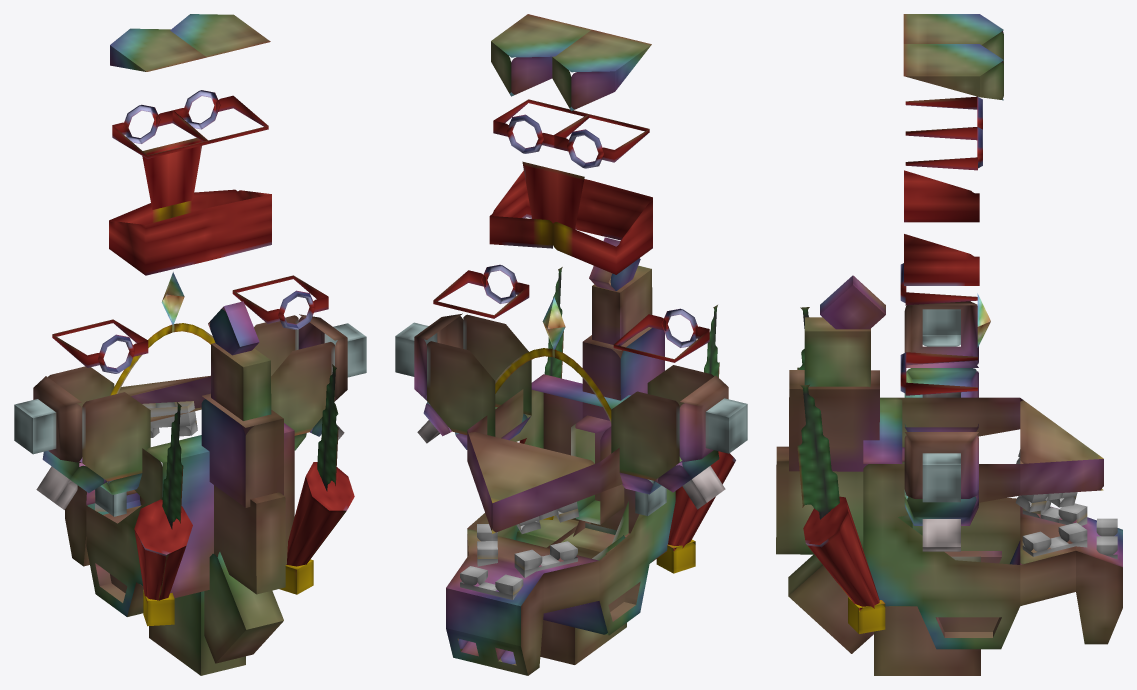
File: bismuth.obj
3 renders of one model, left to right at view 1: azimuth 30°, elevation 25°; view 2: azimuth 150°, elevation 25°; view 3: azimuth 270°, elevation 25°, orthographic. The views are drawn at different scales.
Parts seen in each view (by area): view 1: Helmet, RightArm, Chest, LeftArm, RightBoot, LeftBoot, LeftLeg, RightLeg; view 2: Helmet, RightArm, LeftArm, Chest, RightBoot, LeftBoot, LeftLeg, RightLeg; view 3: Helmet, LeftArm, RightArm, Chest, LeftBoot, RightBoot, RightLeg, LeftLeg.
Boxes of the visible parts, bbox=[...] form: Helmet: bbox=[65, 301, 354, 675]; RightArm: bbox=[14, 319, 150, 516]; Chest: bbox=[109, 138, 271, 395]; LeftArm: bbox=[232, 275, 366, 450]; RightBoot: bbox=[110, 28, 206, 71]; LeftBoot: bbox=[170, 14, 270, 57]; LeftLeg: bbox=[172, 90, 268, 143]; RightLeg: bbox=[112, 104, 208, 158]; Helmet: bbox=[446, 237, 735, 675]; RightArm: bbox=[611, 308, 747, 516]; LeftArm: bbox=[395, 264, 531, 449]; Chest: bbox=[489, 161, 652, 422]; RightBoot: bbox=[552, 29, 651, 111]; LeftBoot: bbox=[491, 14, 591, 96]; LeftLeg: bbox=[493, 99, 589, 153]; RightLeg: bbox=[553, 114, 649, 168]; Helmet: bbox=[776, 275, 1122, 675]; LeftArm: bbox=[900, 352, 978, 551]; RightArm: bbox=[900, 263, 978, 431]; Chest: bbox=[904, 170, 990, 347]; LeftBoot: bbox=[903, 44, 1003, 100]; RightBoot: bbox=[903, 14, 1003, 63]; RightLeg: bbox=[905, 96, 982, 140]; LeftLeg: bbox=[905, 127, 982, 170].
Size of the model in its own units: 22.21 by 38.35 by 19.45.
